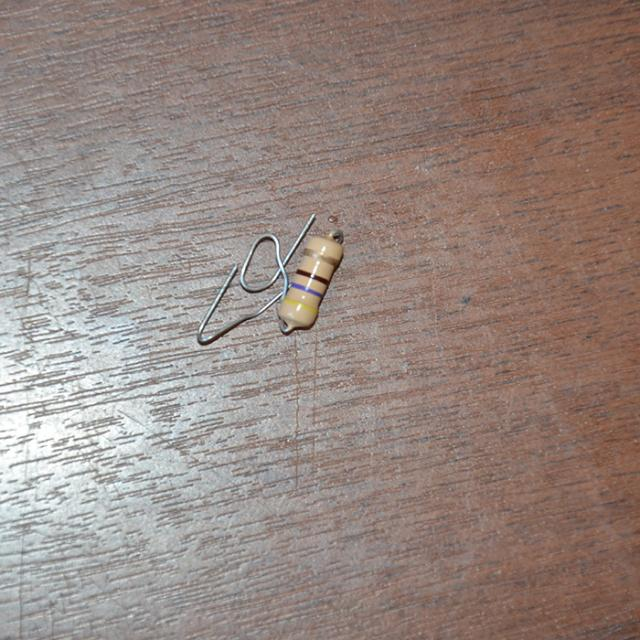brown: (293, 267, 328, 283)
gold: (303, 246, 338, 265)
resistor: (265, 221, 356, 343)
violet: (290, 282, 324, 298)
yellow: (283, 297, 318, 312)
